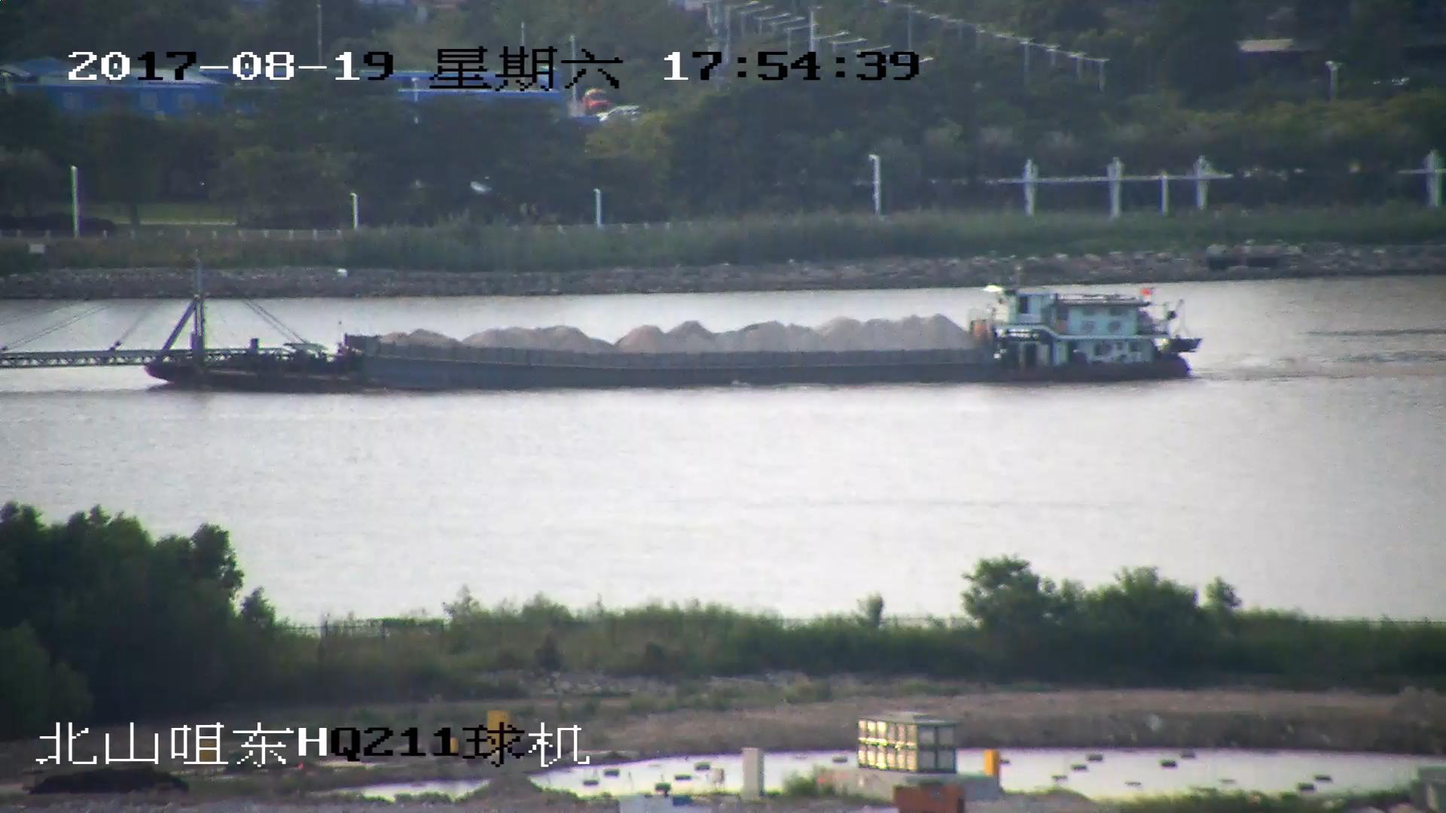ore carrier: (0, 244, 1201, 395)
